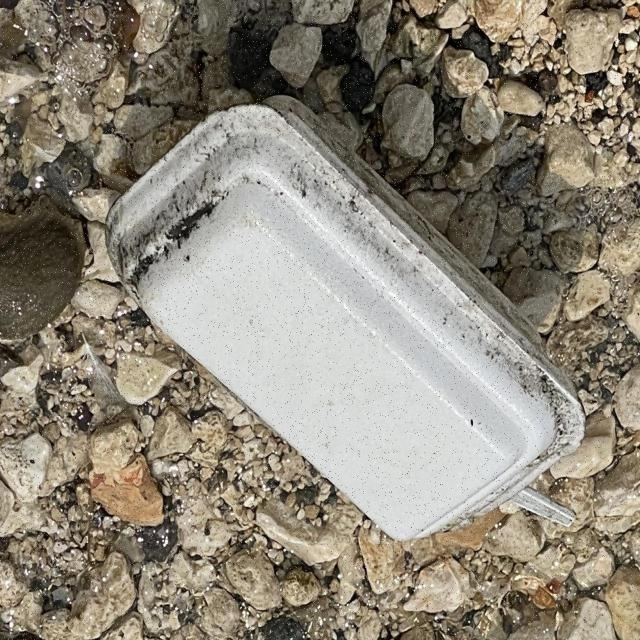plastic_waste: (104, 87, 589, 558)
